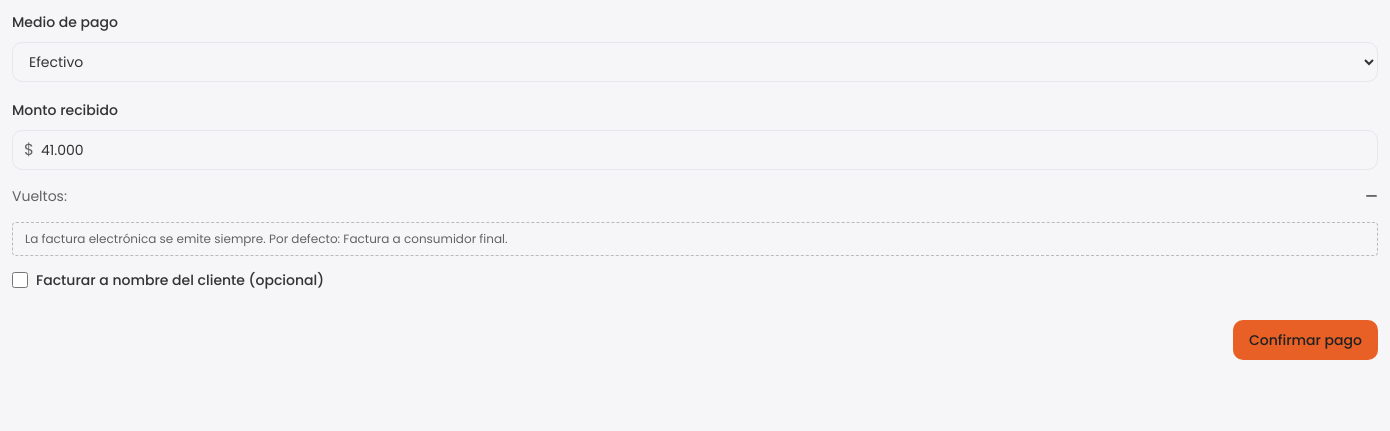
it: <PagoModal /> — REQ-OPS-167 (FE consumidor final + validarNitModulo11) › M7: otros errores del submit siguen mostrando el error generico
Click the button with test id "pago-confirmar". click: (1306,340)
box: [1233,320,1378,360]
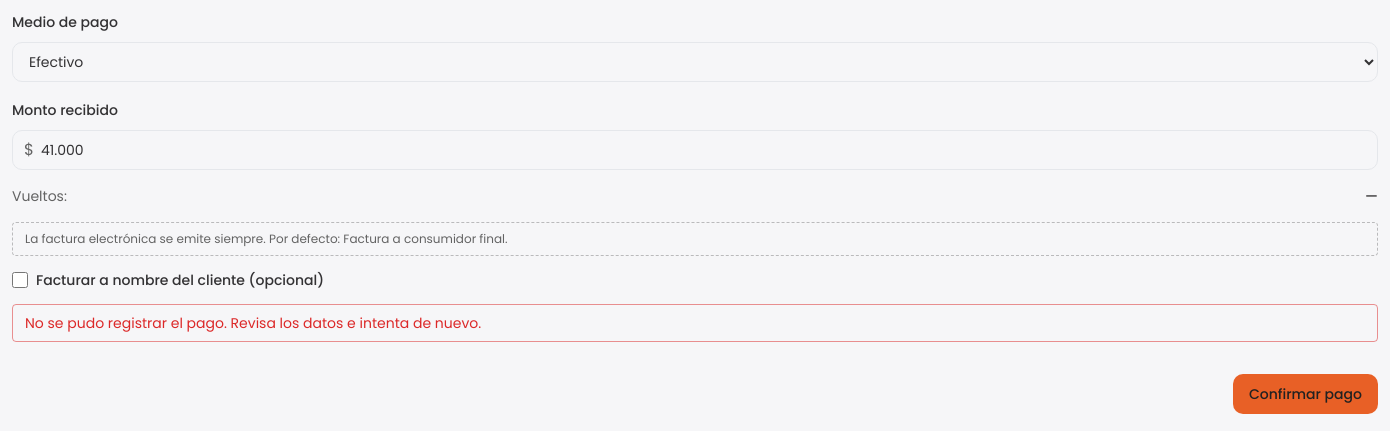
Expected: the message "No se pudo registrar el pago. Revisa los datos e intenta de nuevo." is shown, [12,304,1378,342]
